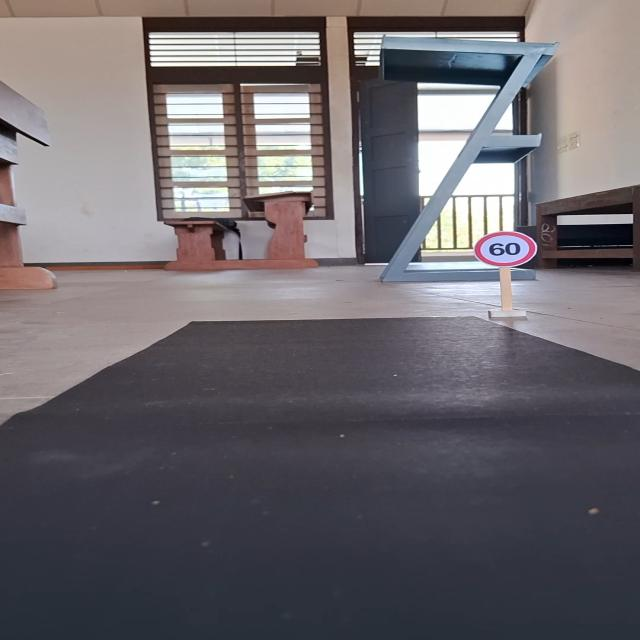Speed60: (472, 230, 538, 269)
